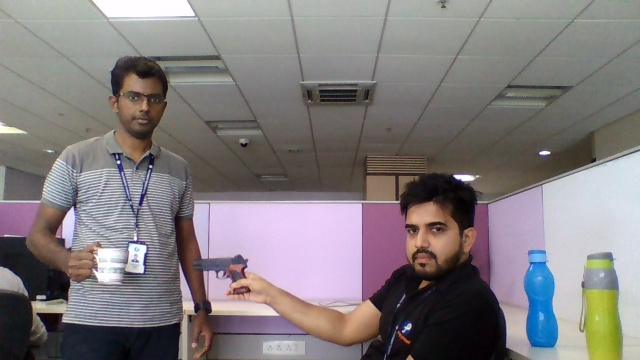gun: (191, 253, 247, 272)
